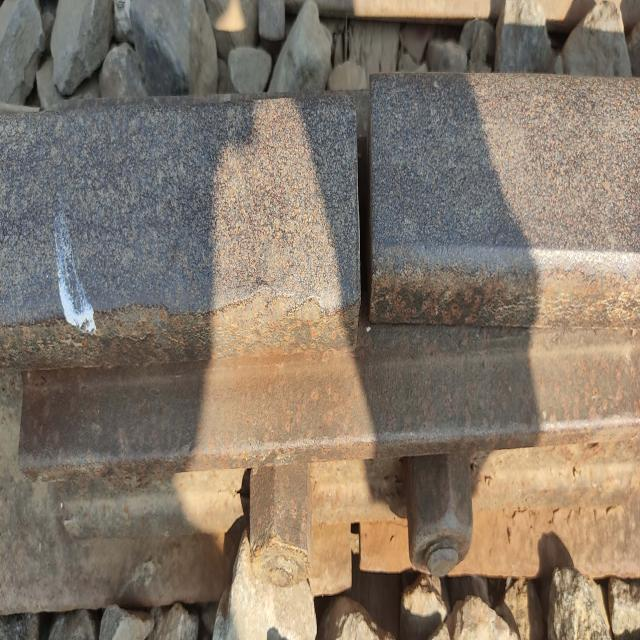broken_rail_low: (338, 81, 392, 352)
